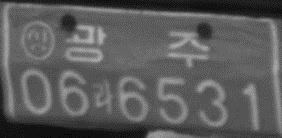0: (19, 67, 52, 115)
1: (236, 82, 269, 131)
3: (195, 78, 229, 127)
5: (157, 76, 189, 126)
6: (58, 71, 90, 119), (117, 75, 149, 123)
광주_D: (64, 23, 209, 67)
라: (92, 78, 115, 116)
영: (20, 20, 55, 61)
